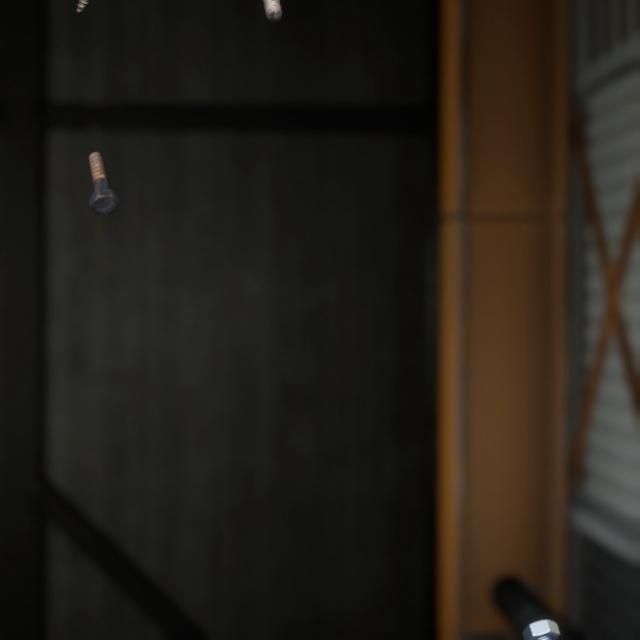bolt: (84, 133, 123, 204)
nut: (518, 591, 564, 628)
